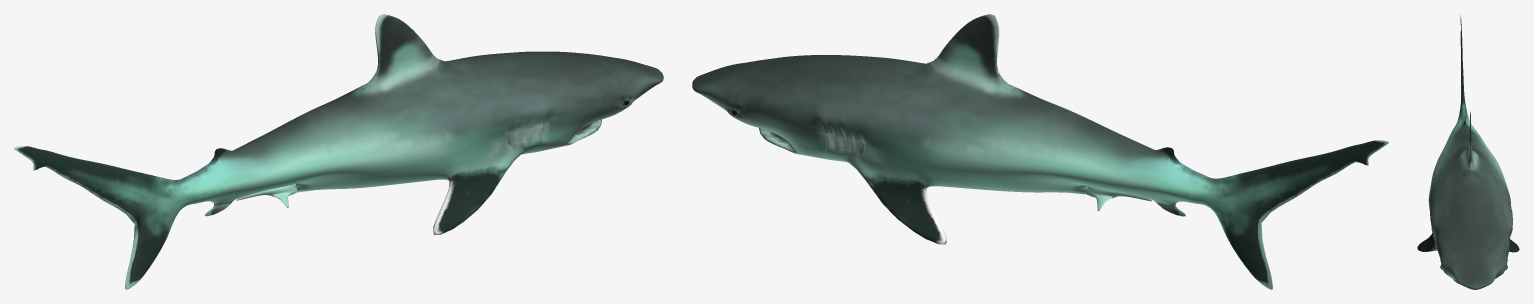
File: tiburon1.glb
3 renders of one model, left to right at view 1: azimuth 30°, elevation 25°; view 2: azimuth 150°, elevation 25°; view 3: azimuth 270°, elevation 25°, orthographic. The views are drawn at different scales.
Parts seen in each view (by area): view 1: Plane; view 2: Plane; view 3: Plane.
Part boxes in pixels (box(x1,y1,x2,y2)): Plane: box(14, 14, 663, 289); Plane: box(692, 14, 1388, 289); Plane: box(1417, 15, 1519, 289).
Bounding box in the file's own units: 2.45 × 0.7356 × 0.4969.
1 material, 1 textured.
